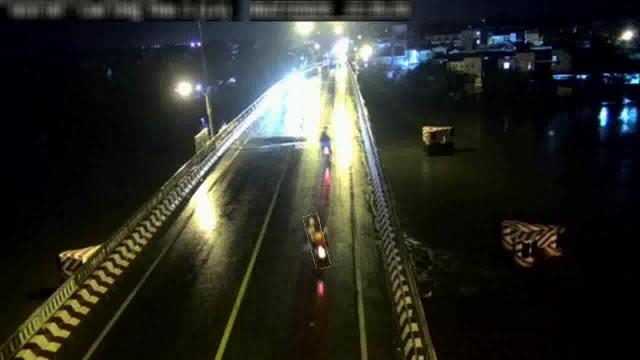Bike: (306, 213, 328, 268), (320, 126, 332, 160)
